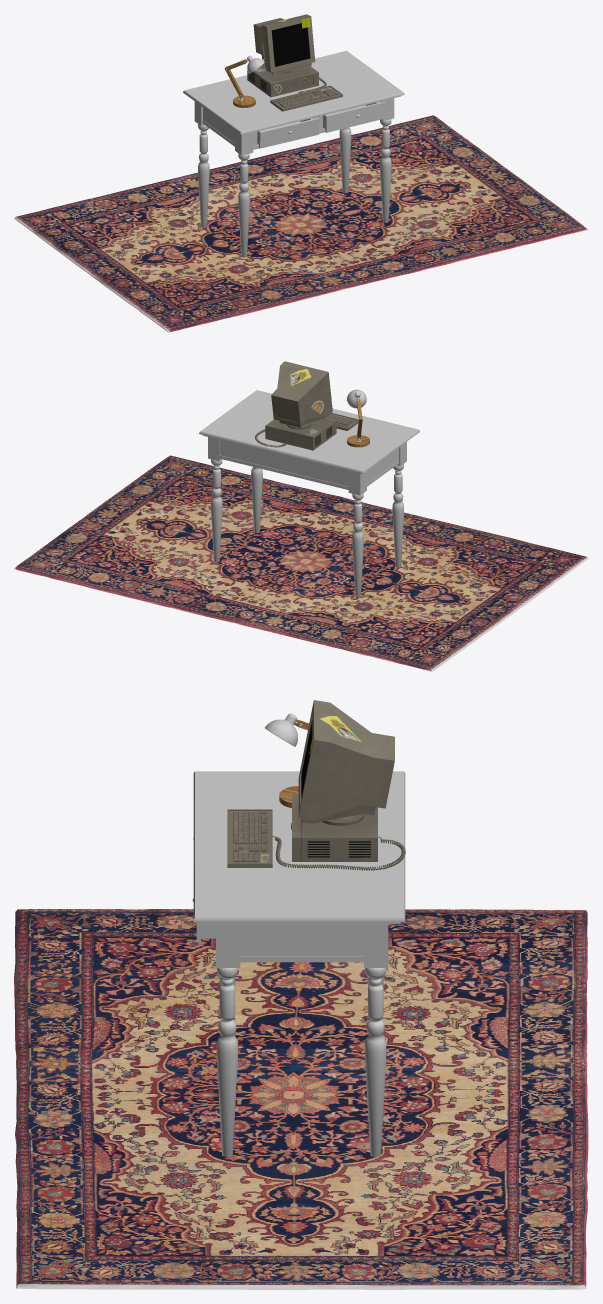
Rendered from desk.obj.
3 renders of one model, top to bottom at view 1: azimuth 30°, elevation 25°; view 2: azimuth 150°, elevation 25°; view 3: azimuth 270°, elevation 25°, orthographic. The views are drawn at different scales.
Parts seen in each view (by area): view 1: Plane.003, ds, et_09_-_Default_0, Object_08_-_Default_0; view 2: Plane.003, ds, et_09_-_Default_0, Object_08_-_Default_0; view 3: Plane.003, ds, et_09_-_Default_0, Object_08_-_Default_0.
Boxes of the visible parts, <box> form: Plane.003: <box>14,115,588,332</box>; ds: <box>183,51,404,257</box>; et_09_-_Default_0: <box>247,14,318,97</box>; Object_08_-_Default_0: <box>270,77,342,111</box>; Plane.003: <box>14,455,588,671</box>; ds: <box>199,390,419,596</box>; et_09_-_Default_0: <box>265,361,336,450</box>; Object_08_-_Default_0: <box>255,413,358,447</box>; Plane.003: <box>14,909,588,1289</box>; ds: <box>192,771,405,1157</box>; et_09_-_Default_0: <box>291,700,394,861</box>; Object_08_-_Default_0: <box>227,809,405,870</box>.
Bounding box in the file's own units: 2.71 × 1.24 × 1.74.
